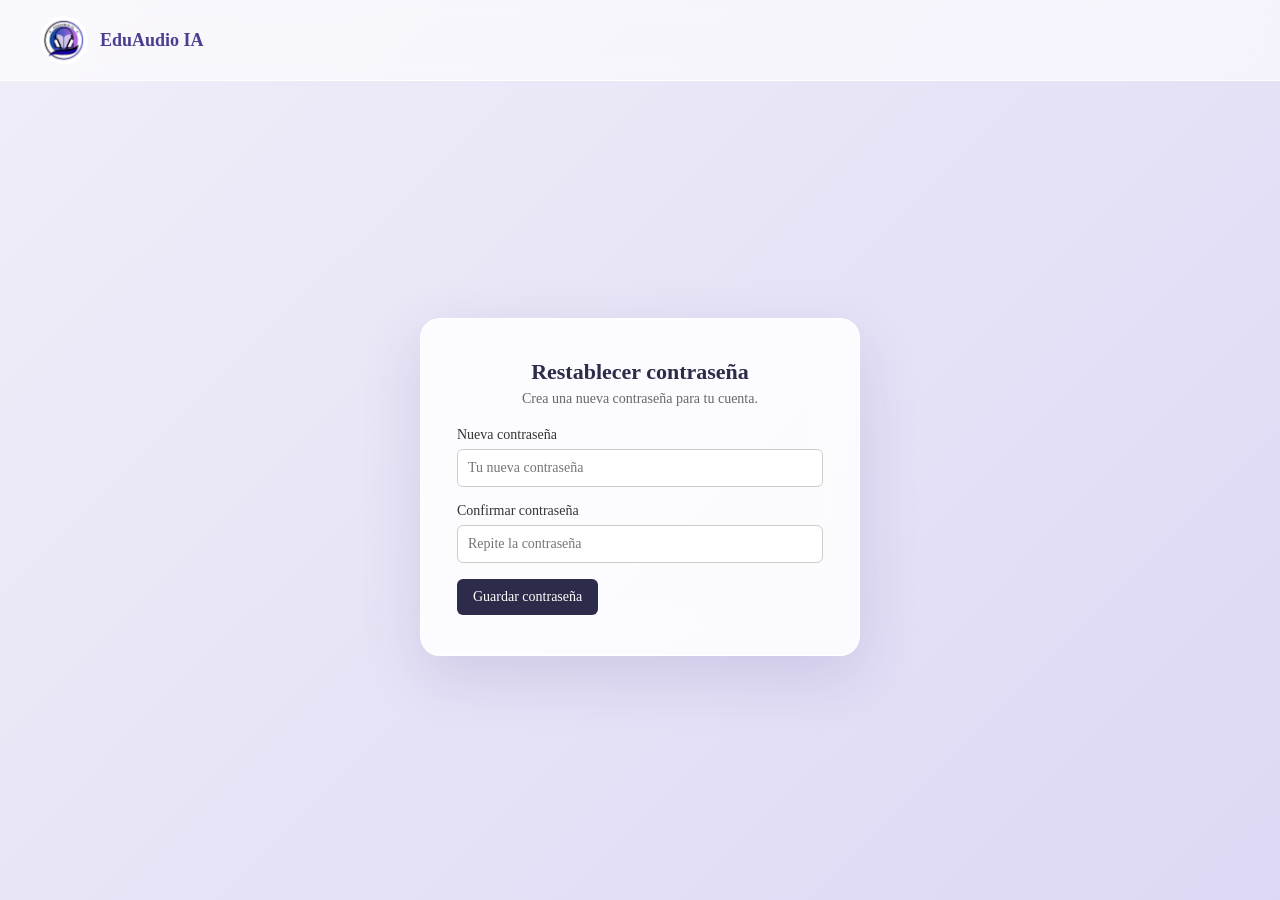
Test: ResetPassword › muestra error si los campos están vacíos
This screenshot has width=1280, height=900.
Click the button "Guardar contraseña" at (528, 596), box x1=457 y1=578 x2=598 y2=614
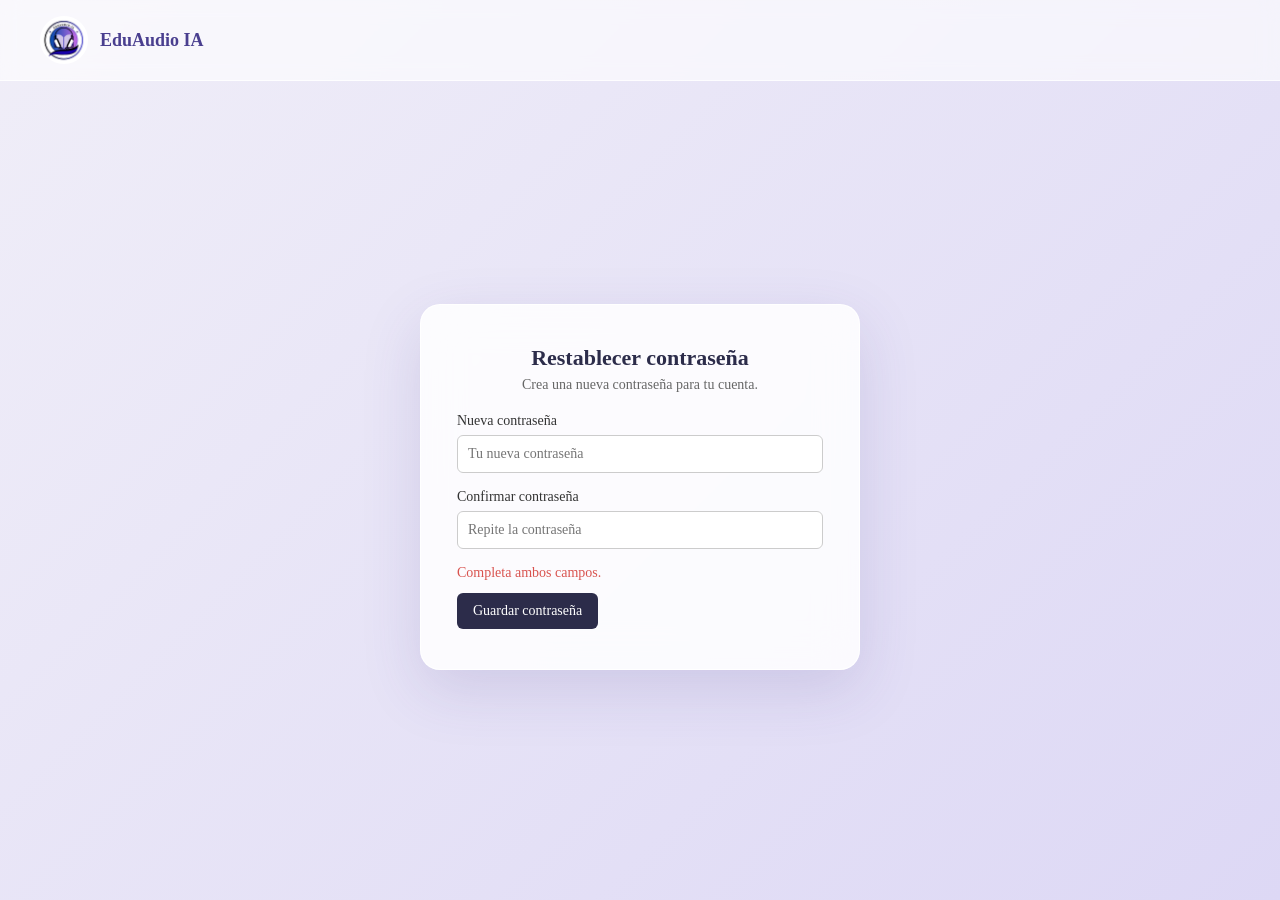
Now the text "Completa ambos campos." is shown, box x1=457 y1=564 x2=601 y2=580
